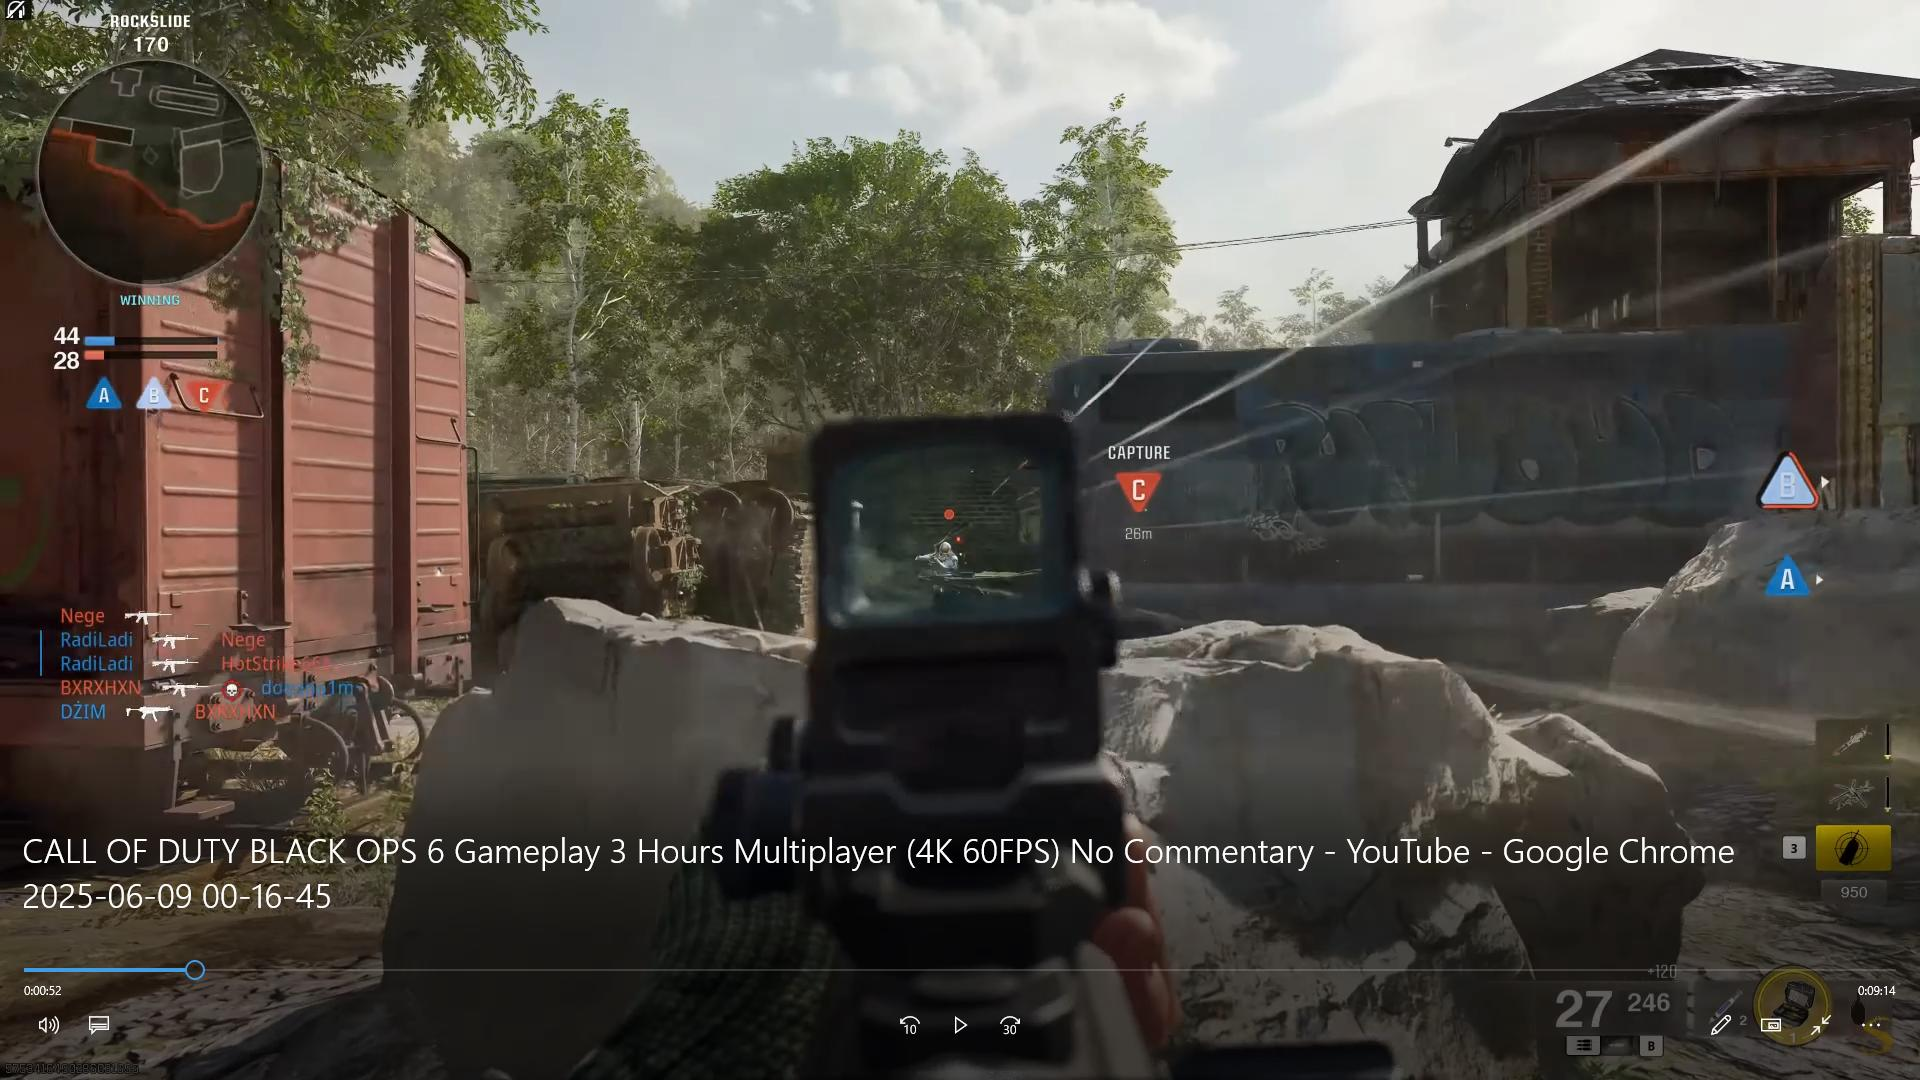Enemy: (926, 538, 961, 574)
